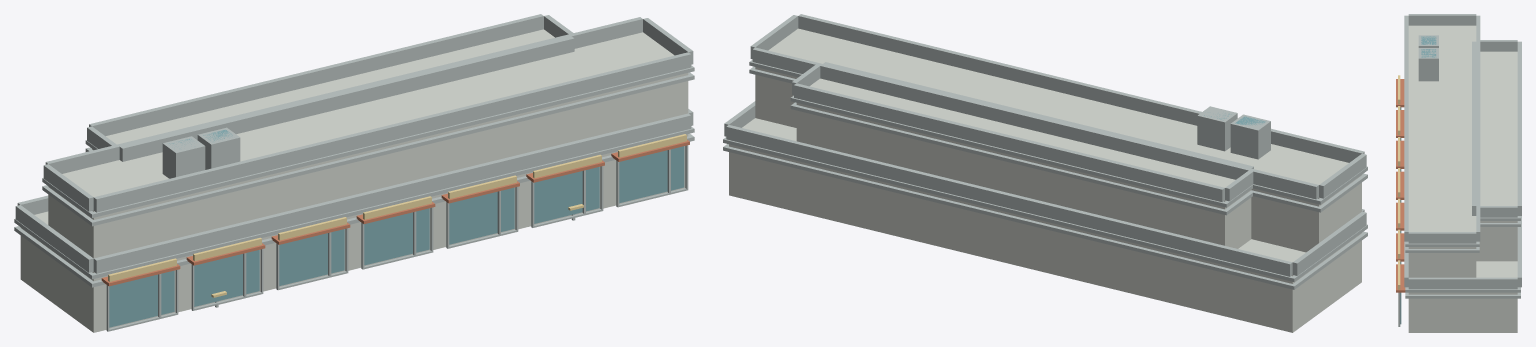
File: commercial_4x1_court.glb
3 renders of one model, left to right at view 1: azimuth 30°, elevation 25°; view 2: azimuth 150°, elevation 25°; view 3: azimuth 270°, elevation 25°, orthographic. The views are drawn at different scales.
Parts seen in each view (by area): view 1: commercial_4x1_court_0; view 2: commercial_4x1_court_0; view 3: commercial_4x1_court_0.
Boxes of the visible parts, x1=… form: commercial_4x1_court_0: x1=14, y1=14, x2=694, y2=332; commercial_4x1_court_0: x1=723, y1=14, x2=1367, y2=332; commercial_4x1_court_0: x1=1396, y1=14, x2=1521, y2=332.
Size of the model in its own units: 31 by 7.5 by 7.5.
